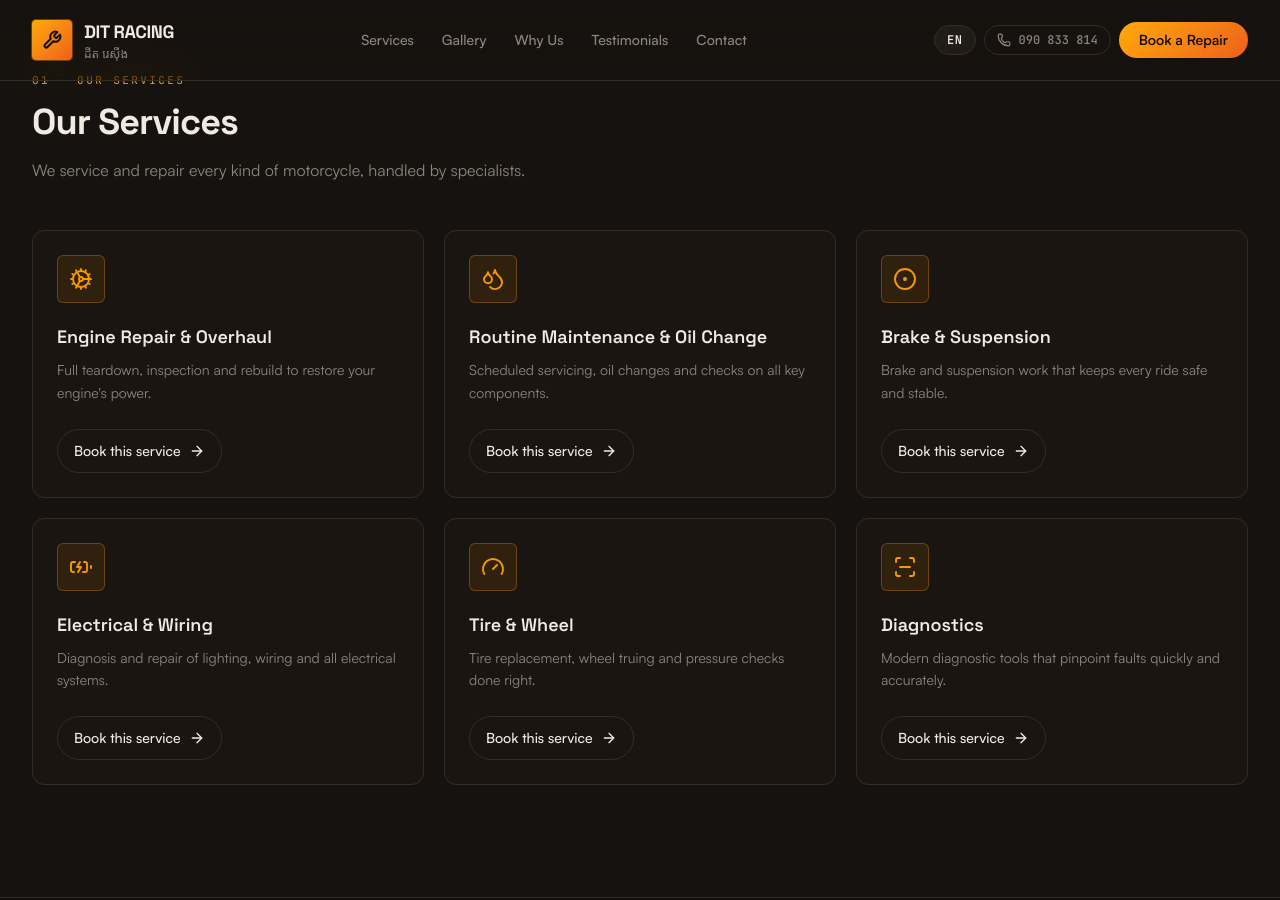
Test: DIT RACING landing page › preselects the booking form service when a service card is booked
(page scrolled)
Click the button with test id "services.book_button.3".
click(963, 450)  # box [881,428,1046,472]
(page scrolled)
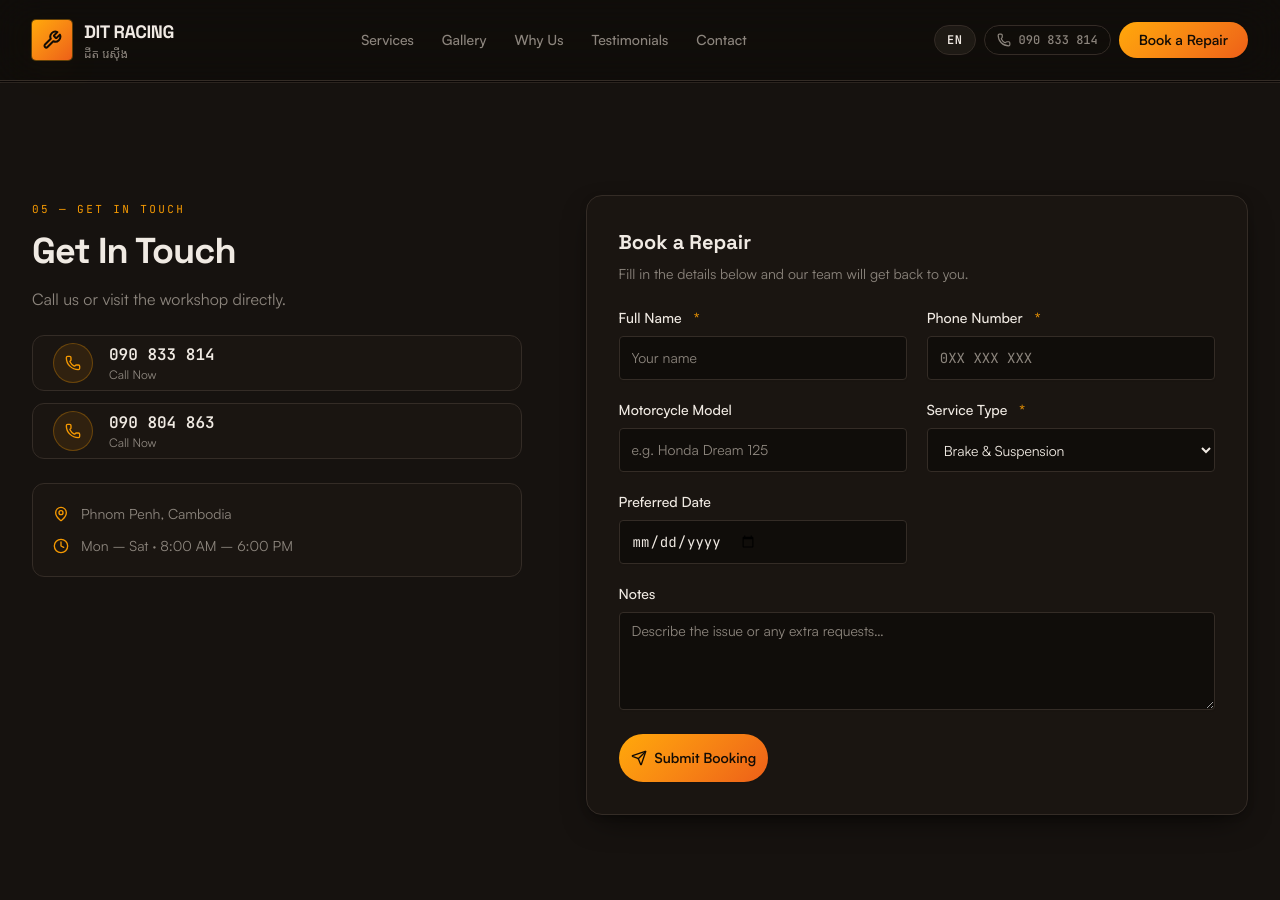
Result: the dropdown with test id "booking.service_select" shows "Brake & Suspension" at [927,428,1215,472]
